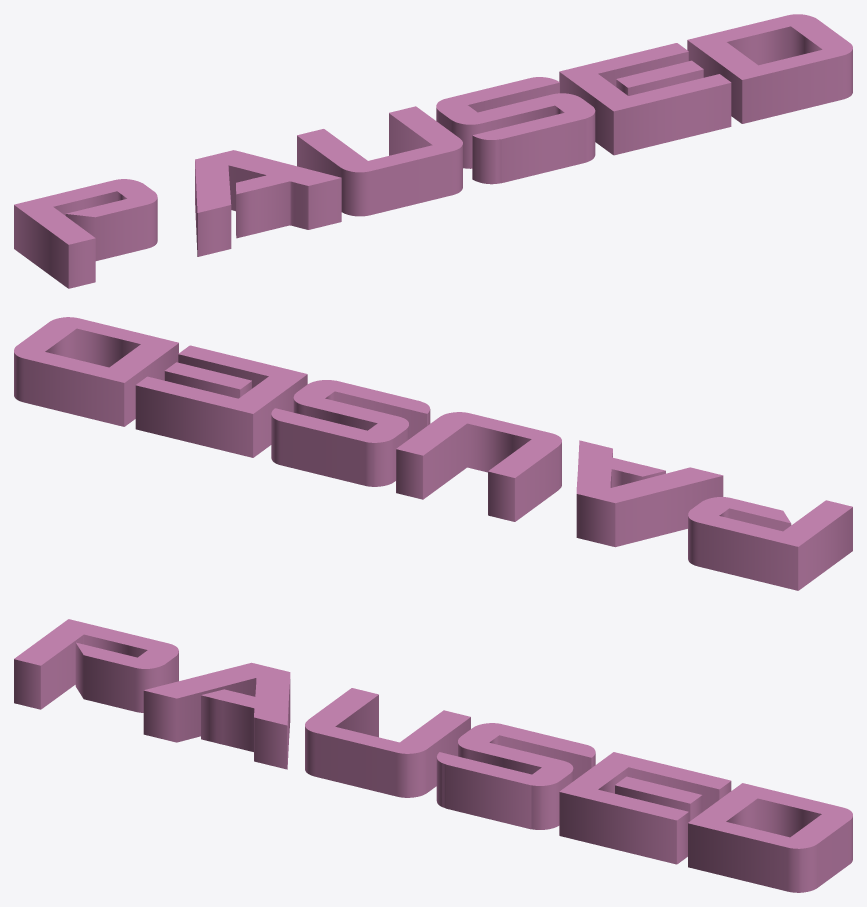
The model's file is paused.dae.
3 renders of one model, top to bottom at view 1: azimuth 30°, elevation 25°; view 2: azimuth 150°, elevation 25°; view 3: azimuth 330°, elevation 25°, orthographic.
Visible parts, largest first — view 1: paused; view 2: paused; view 3: paused.
Part boxes in pixels (x1,y1,x2,y2): paused: (14, 14, 852, 288); paused: (14, 317, 852, 590); paused: (14, 619, 852, 892).
Bounding box in the file's own units: 3.05 × 0.3722 × 0.162.
